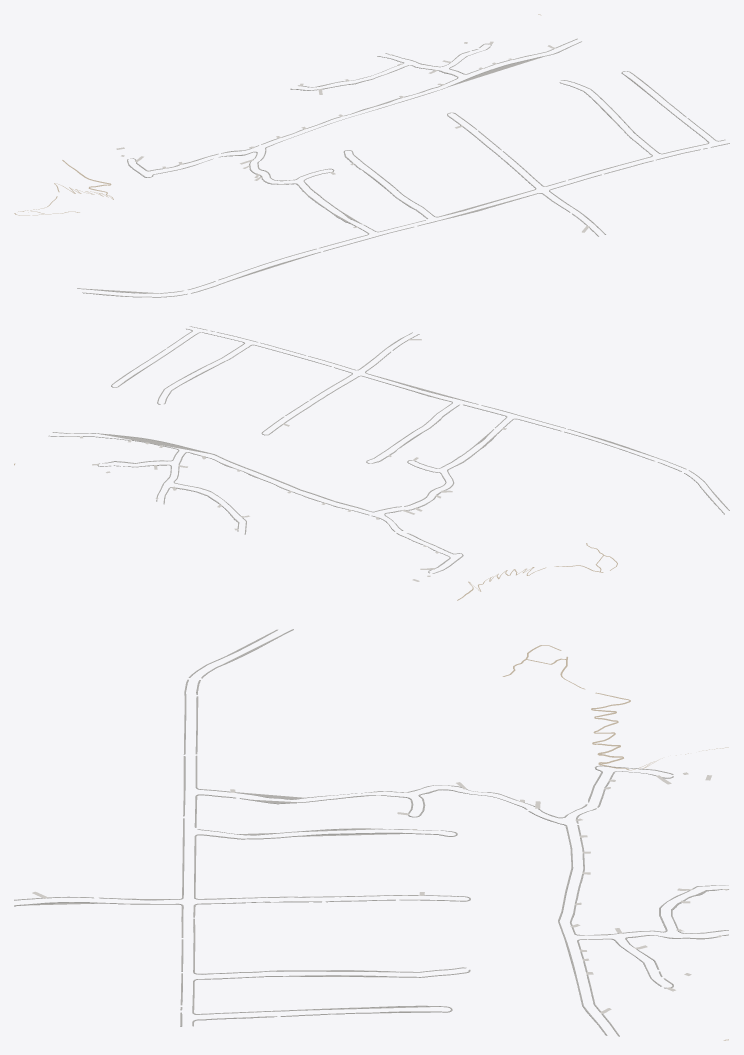
The model's file is ground_r3_c0.glb.
3 views of the same model, one above another, from view 1: azimuth 30°, elevation 25°; view 2: azimuth 150°, elevation 25°; view 3: azimuth 270°, elevation 25° (orthographic). The views are drawn at different scales.
Visible parts, largest first — view 1: sidewalks, driveways; view 2: sidewalks, driveways; view 3: sidewalks, paths, driveways.
Part boxes in pixels (x1,y1,x2,y2): sidewalks: [77, 38, 729, 297]; driveways: [116, 41, 589, 232]; sidewalks: [48, 326, 729, 573]; driveways: [80, 339, 506, 581]; sidewalks: [14, 629, 728, 1036]; paths: [502, 645, 728, 1040]; driveways: [32, 772, 729, 1013].
Size of the model in its own units: 1125 by 100 by 789.
